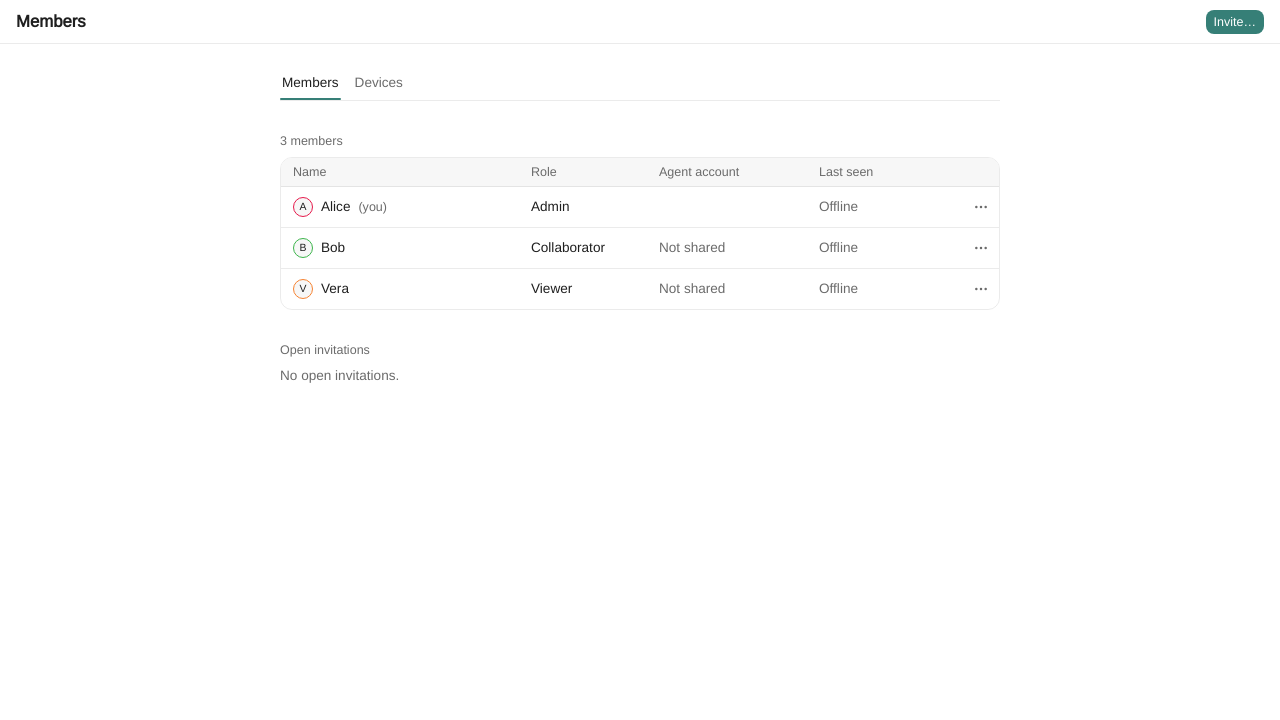
Test: members page › keeps a pending role over the roster re-read after a removal
This screenshot has width=1280, height=720.
Press Enter
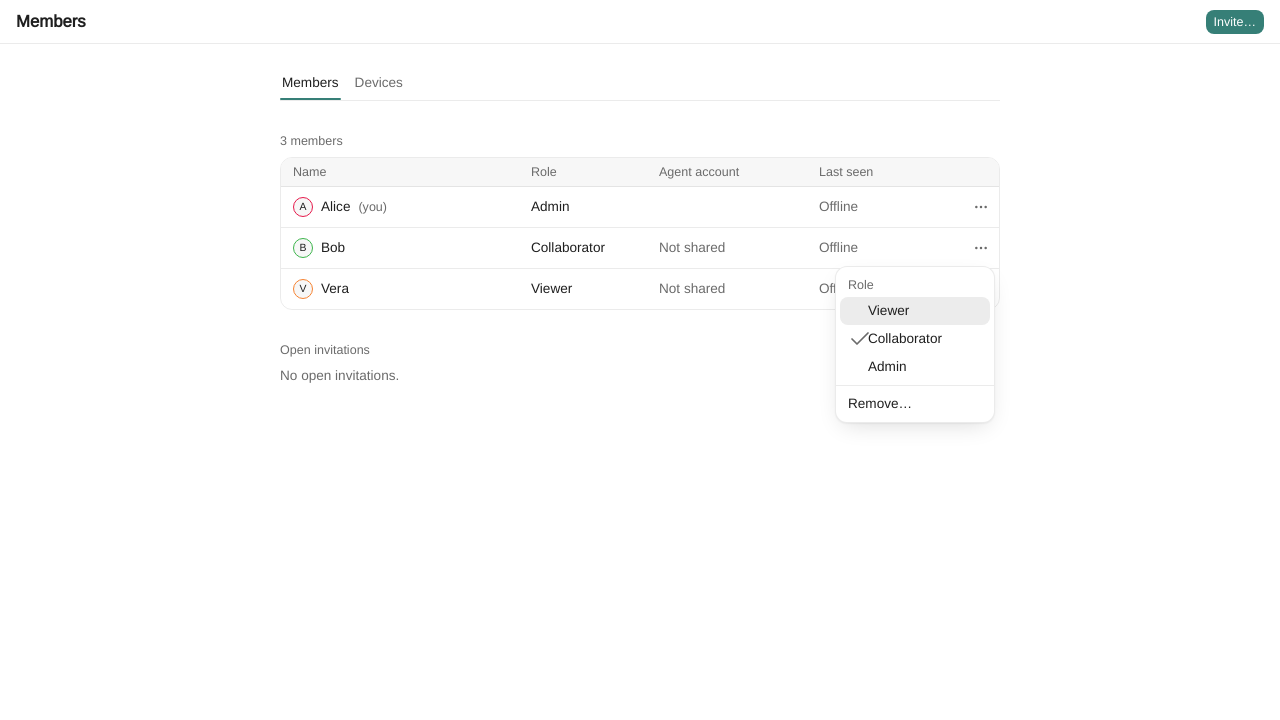
Click the 3rd menu item named "Admin" at (887,366), box [868,358,906,375]
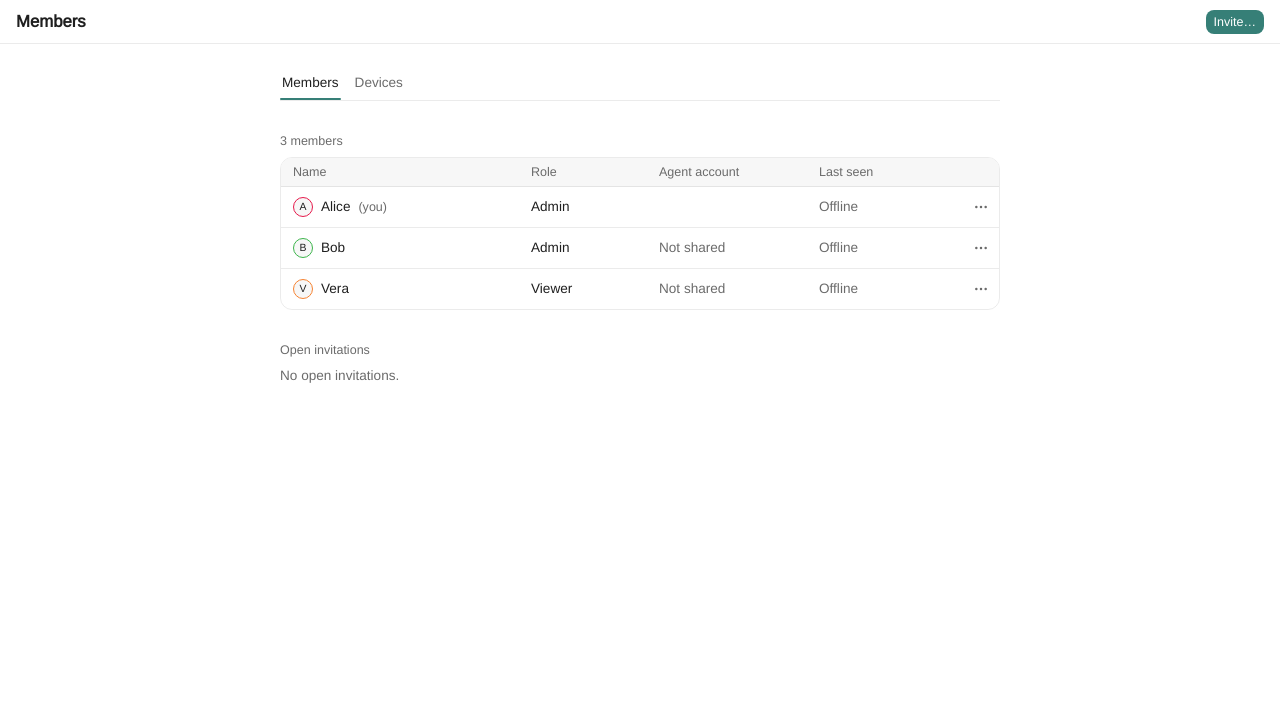
Expected: the menu is gone
Press Enter
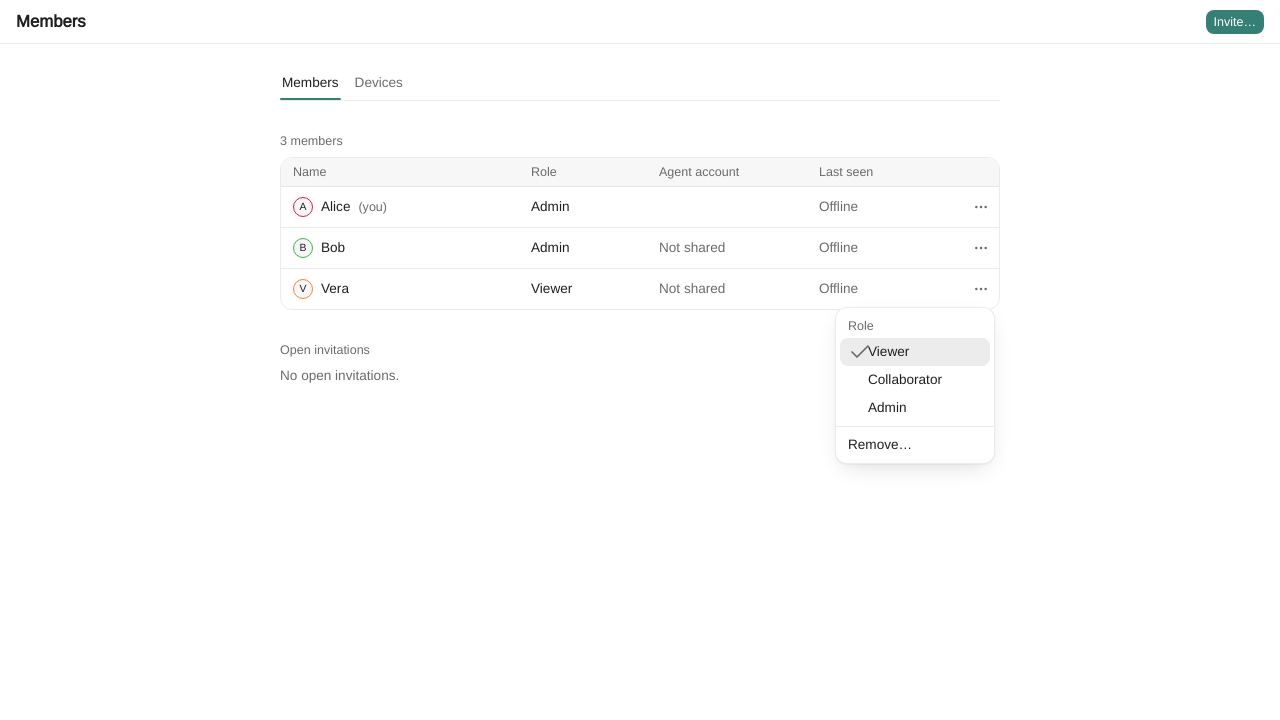
Click the 4th menu item named "Remove…" at (880,444), box [848,436,912,453]
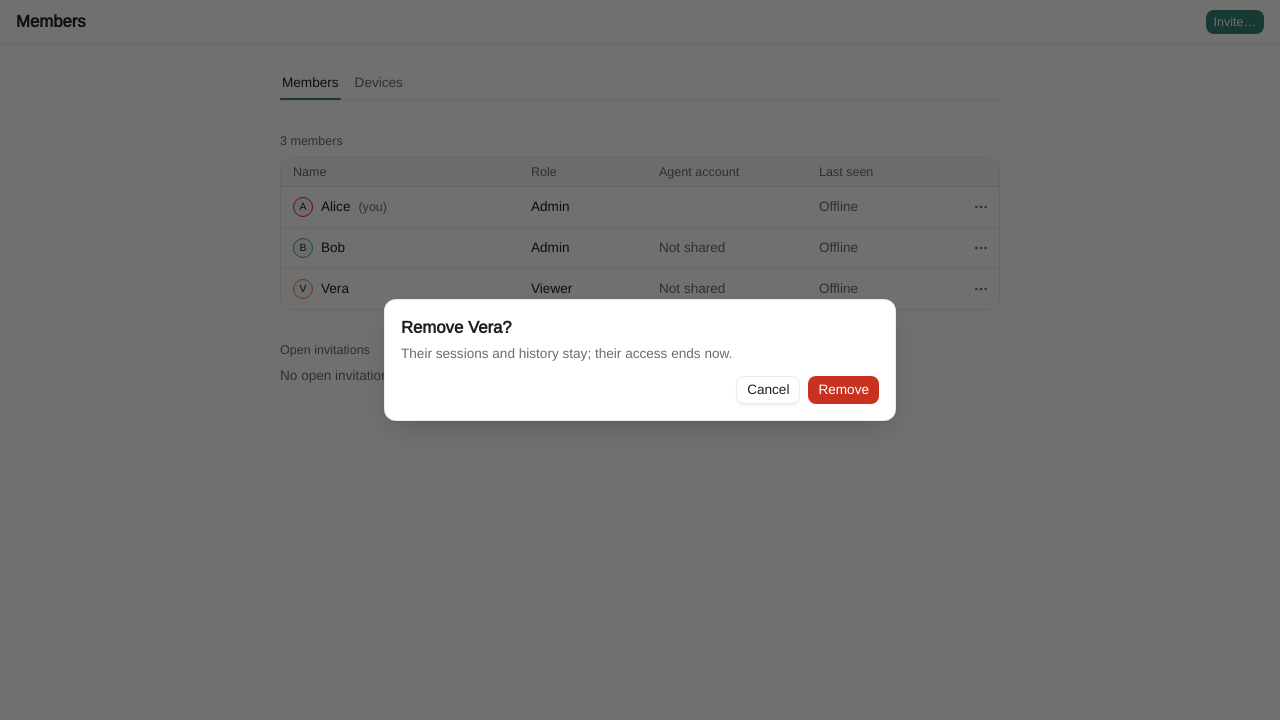
Click the 2nd button named "Remove" at (844,390), box [808,376,879,404]
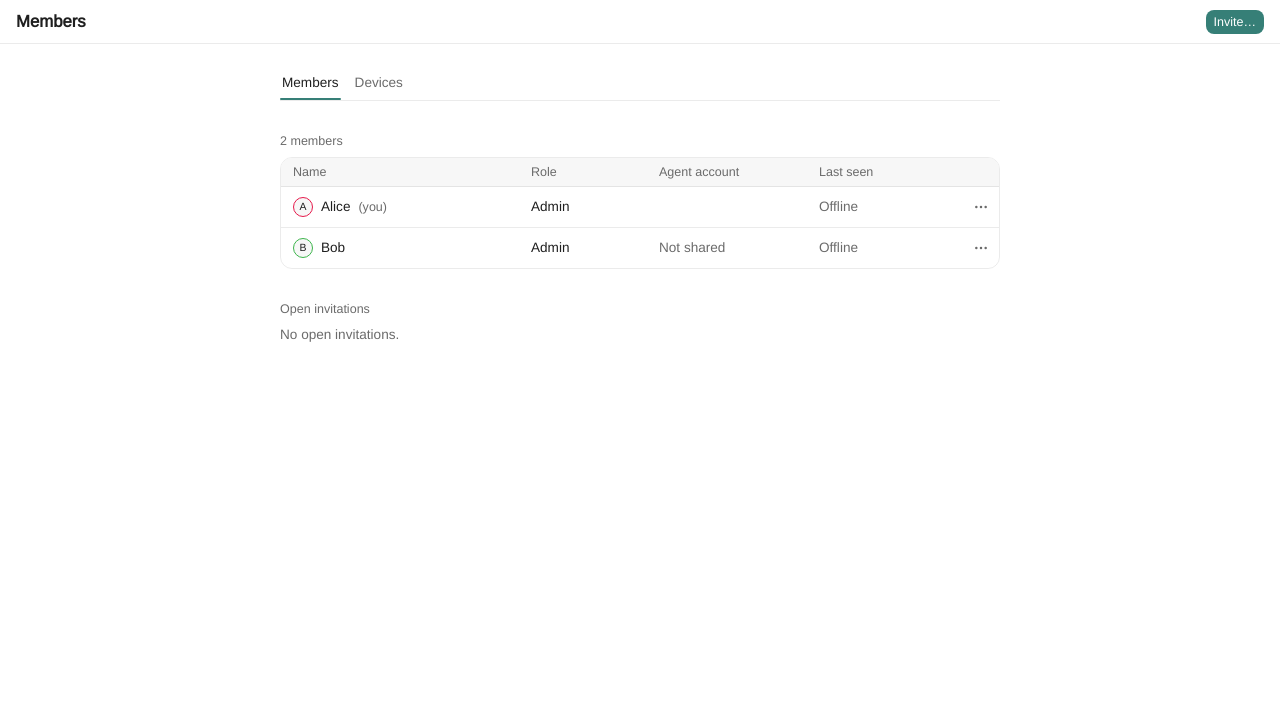
Expected: the 7th text "Admin" is shown, [531,239,570,256]
Expected: the picture "Vera" is gone
